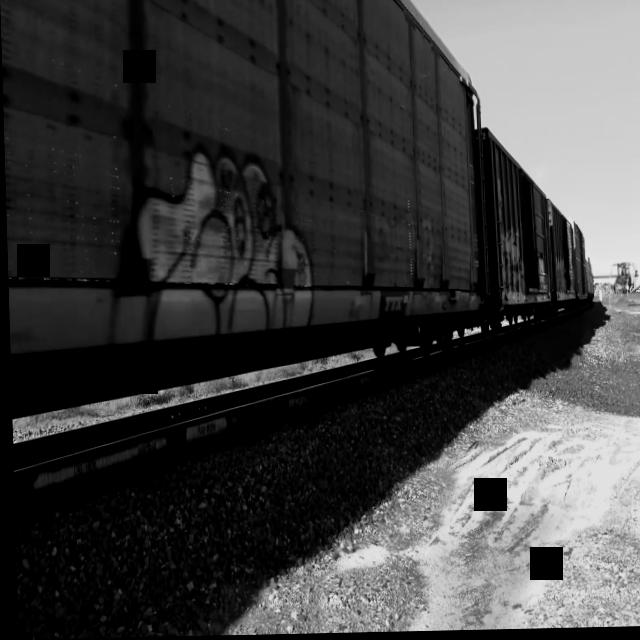autorack: (0, 0, 487, 425)
boxcar: (478, 121, 554, 346)
